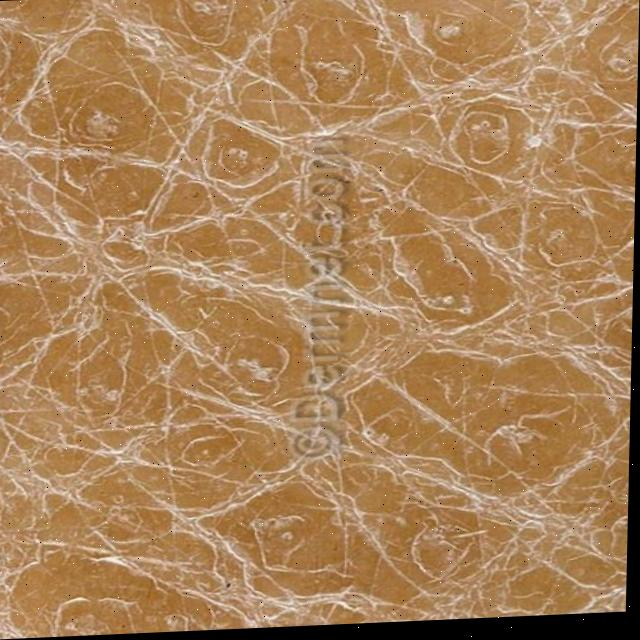Eczema: (0, 0, 593, 639)
